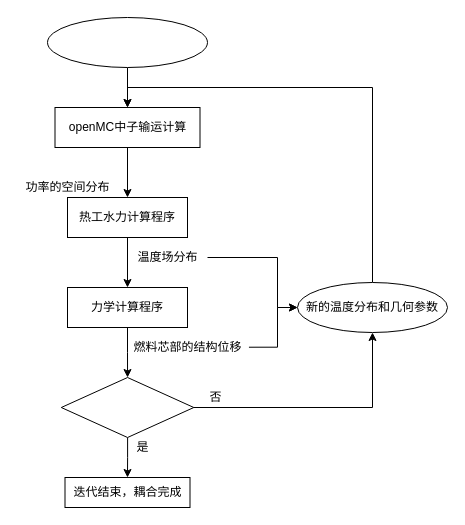
Some shapes in this 465 by 525 pixel diagram are drawn without their labels. Each missing label, with the centre of its shape:
是否收敛？: (127,407)
预设温度分布和几何参数: (127,42)
